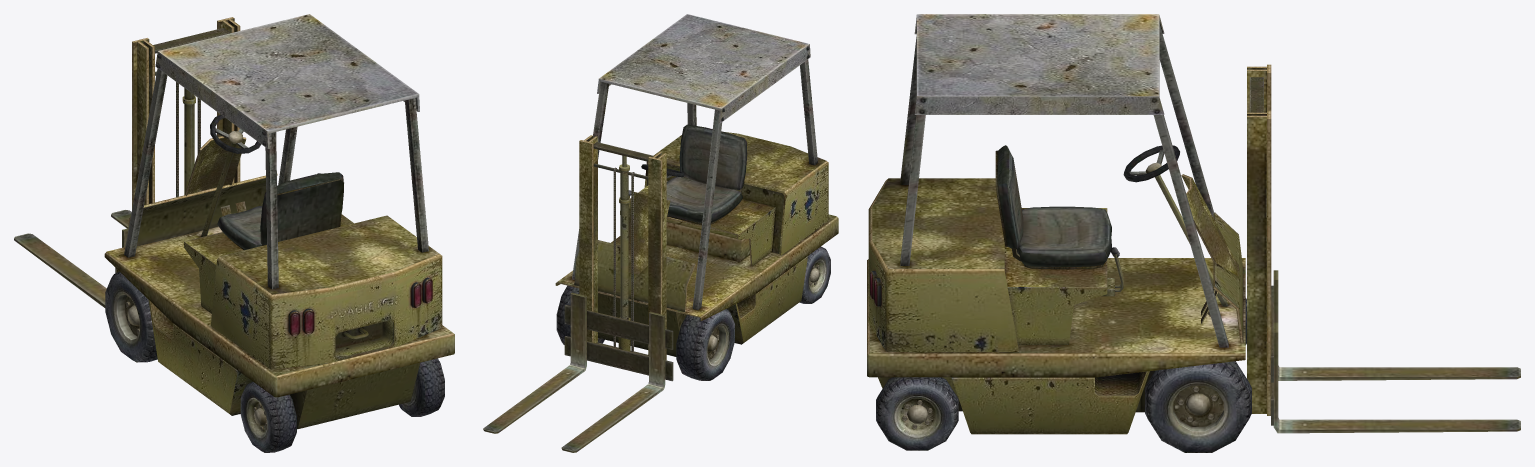
File: forklift.glb
3 views of the same model, side by side, from view 1: azimuth 30°, elevation 25°; view 2: azimuth 150°, elevation 25°; view 3: azimuth 270°, elevation 25° (orthographic). The views are drawn at different scales.
Parts seen in each view (by area): view 1: 0_forklift; view 2: 0_forklift; view 3: 0_forklift.
Part boxes in pixels (x1=…): 0_forklift: x1=14, y1=14, x2=454, y2=452; 0_forklift: x1=483, y1=14, x2=838, y2=452; 0_forklift: x1=867, y1=14, x2=1520, y2=452.
Bounding box in the file's own units: 1.46 × 2.47 × 4.14.
Materials: 1 (1 with a texture image).
